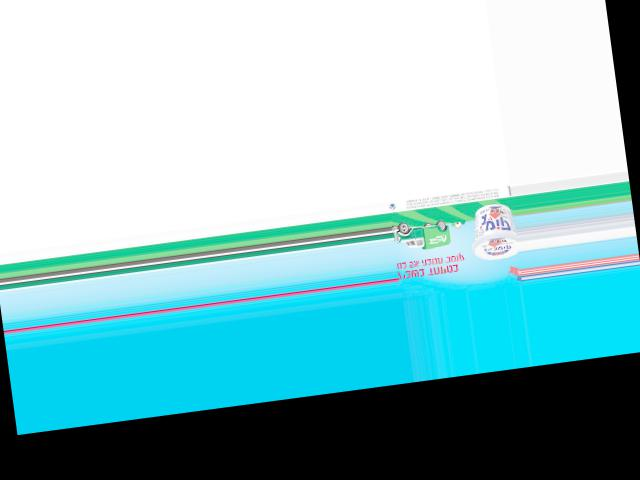cotage: (467, 201, 519, 263)
